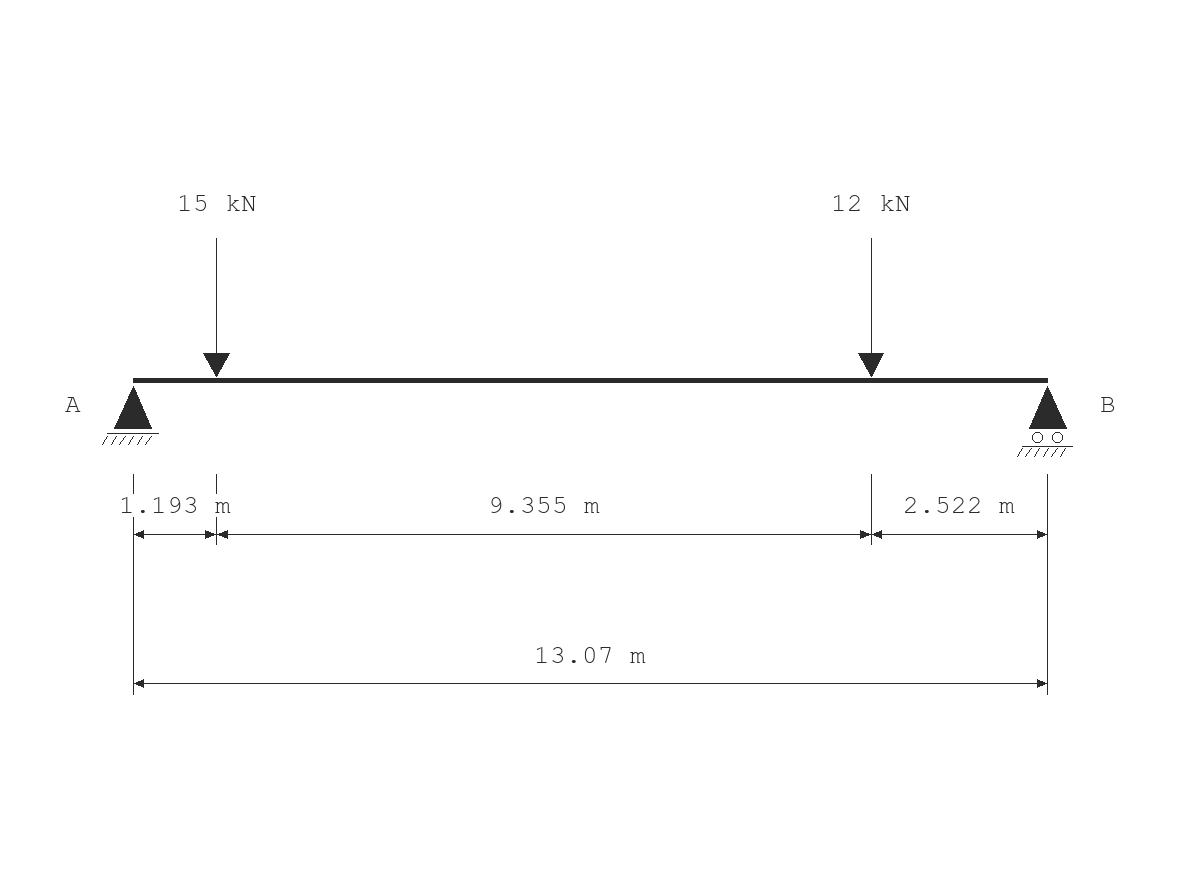pin_support: (102, 386, 159, 445)
point_load: (203, 238, 230, 377), (858, 238, 884, 377)
roller_support: (1017, 386, 1073, 457)
